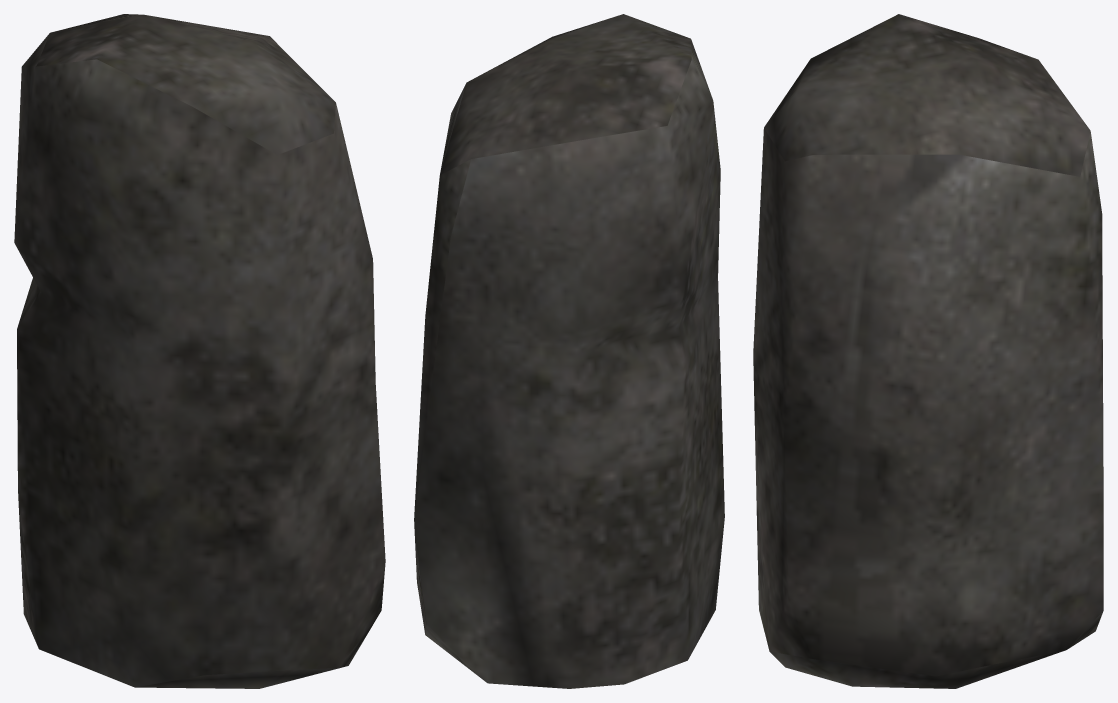
File: Rock3v2.glb
3 renders of one model, left to right at view 1: azimuth 30°, elevation 25°; view 2: azimuth 150°, elevation 25°; view 3: azimuth 270°, elevation 25°, orthographic. The views are drawn at different scales.
Visible parts, largest first — view 1: rocks1_3; view 2: rocks1_3; view 3: rocks1_3.
Boxes of the visible parts, bbox=[...] form: rocks1_3: bbox=[14, 14, 385, 688]; rocks1_3: bbox=[414, 14, 724, 688]; rocks1_3: bbox=[753, 14, 1103, 688].
Size of the model in its own units: 2.39 by 4.7 by 2.63.
Materials: 1 (1 with a texture image).
